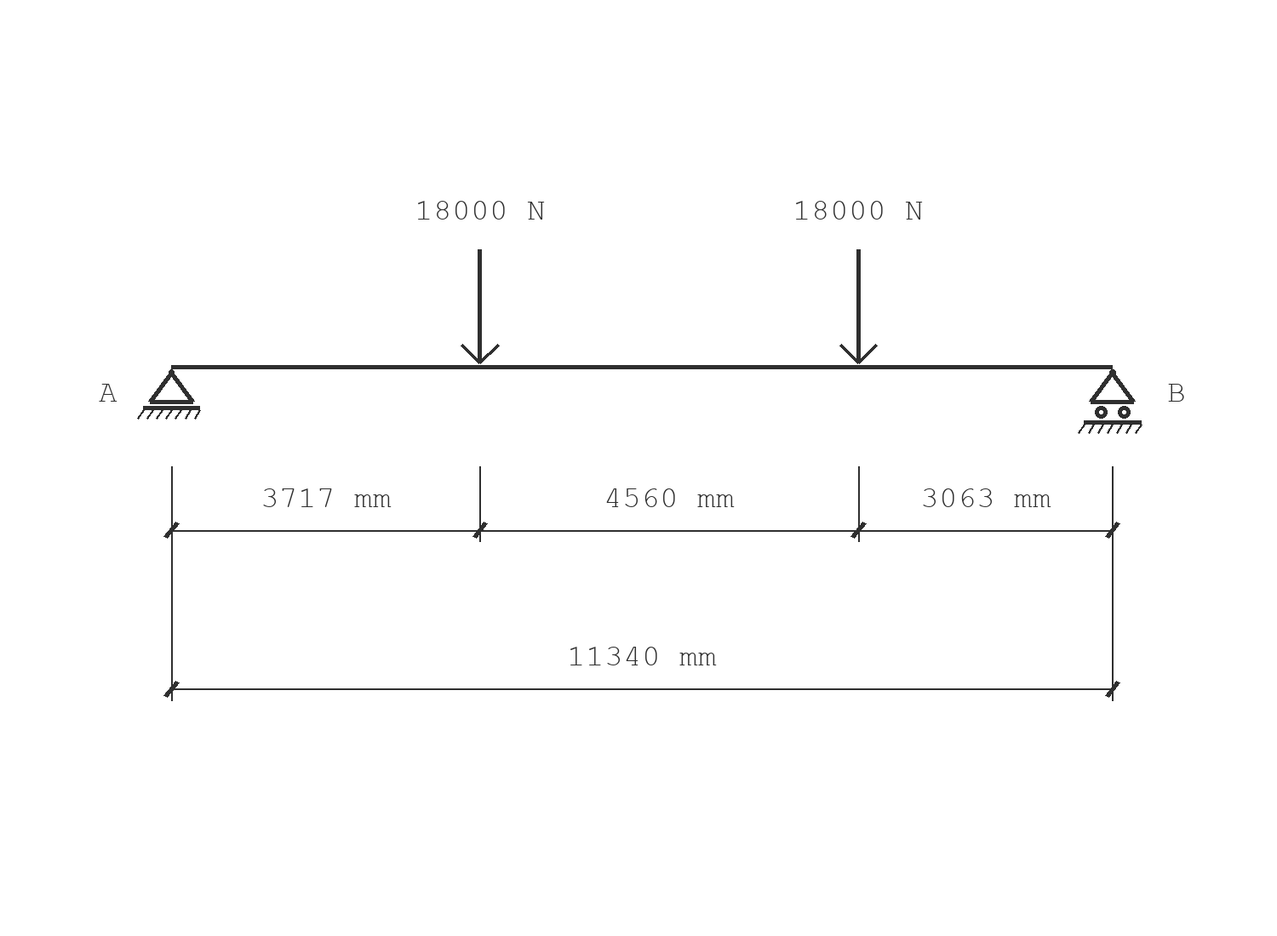pin_support: (137, 369, 201, 419)
point_load: (461, 249, 500, 364), (839, 249, 878, 364)
roller_support: (1078, 369, 1142, 434)
